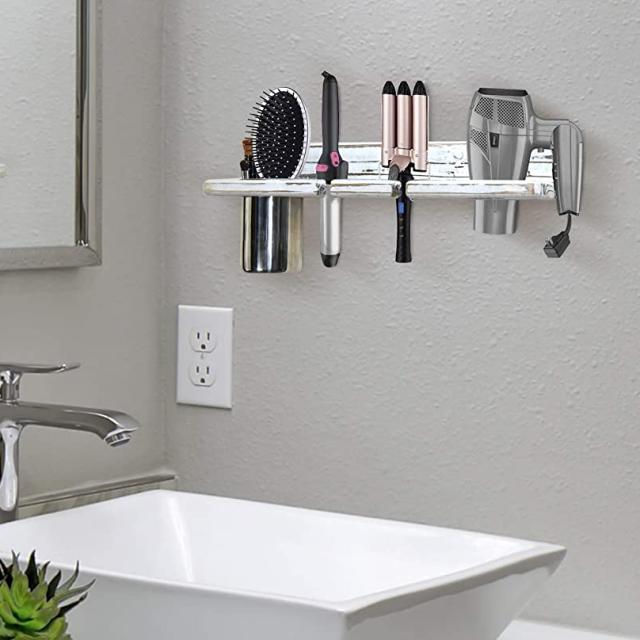dryer: (451, 72, 601, 256)
